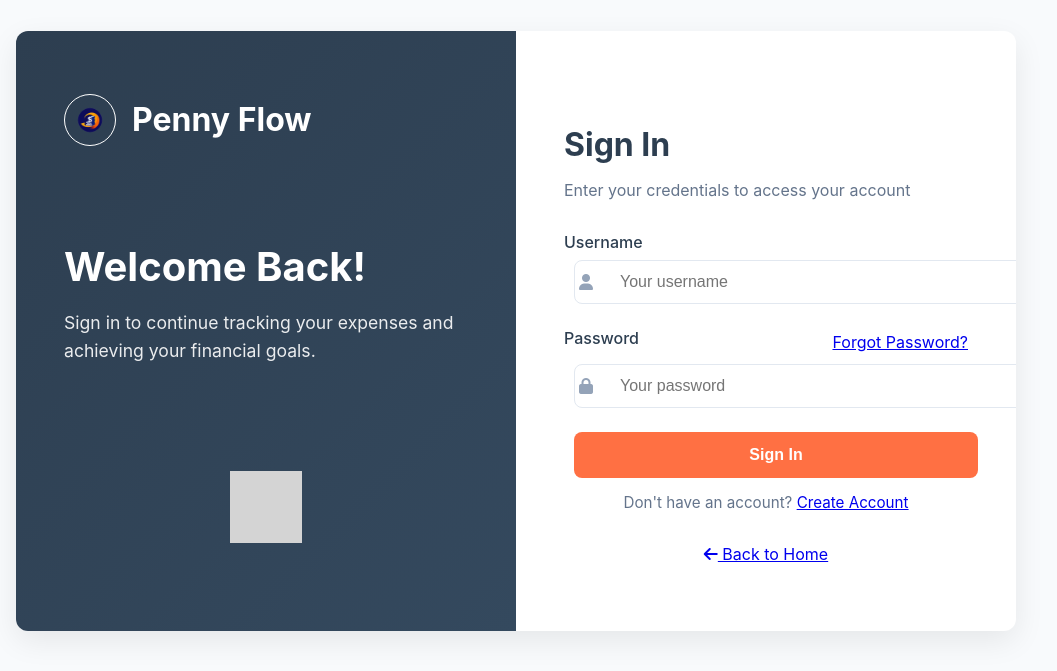
Scenario: Login Page › should show error on failed login
The width and height of the screenshot is (1057, 671).
# Enter wrong credentials
In the field named "username": (807, 282) [574,260,1040,304], type "wronguser"
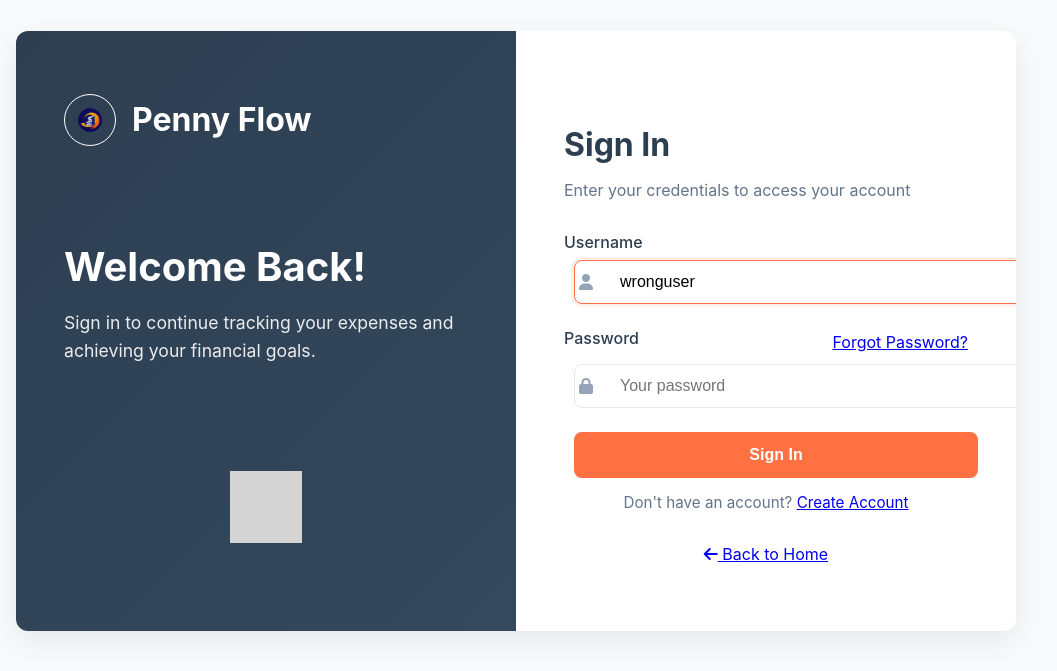
In the password field named "password": (807, 386) [574,364,1040,408], type "wrongpass"
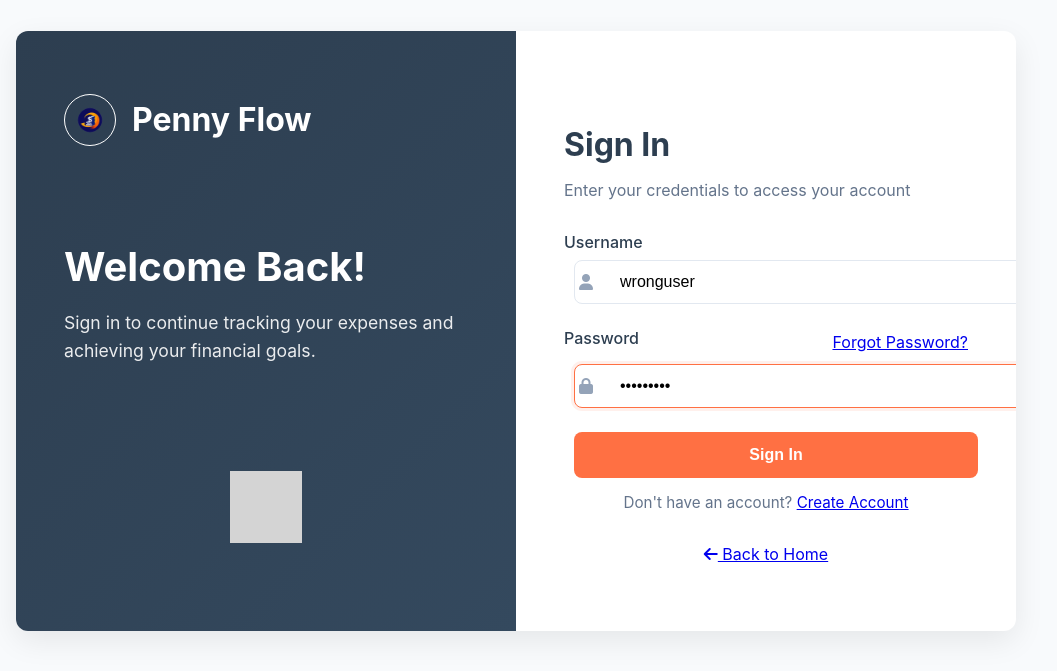
Click the submit button: (776, 455) [574,432,978,478]
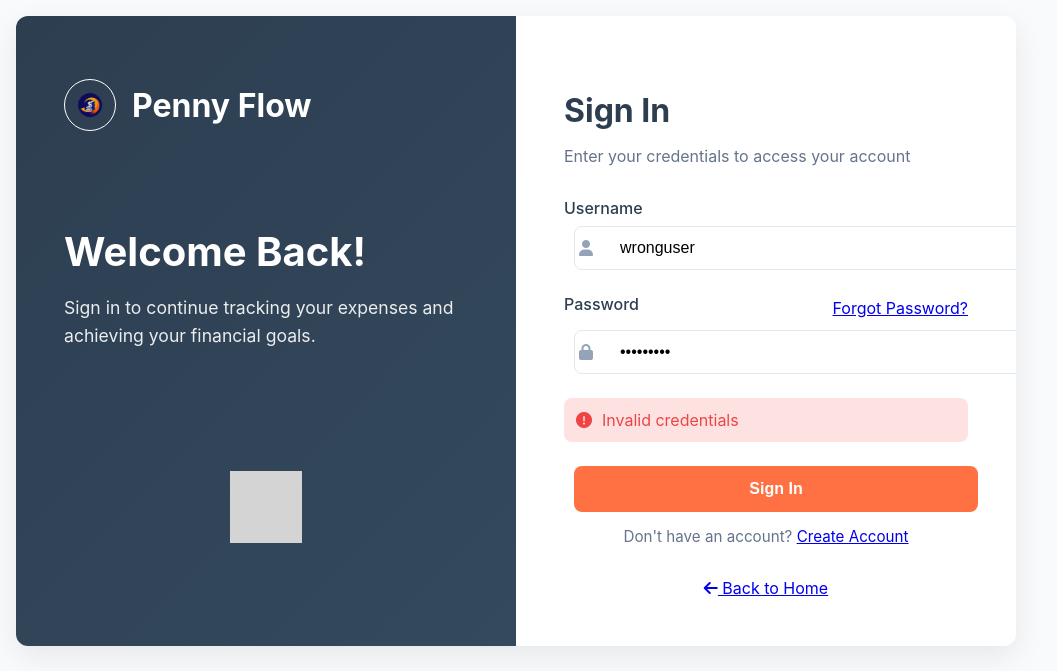
expect the element with class "error-message" reads "Invalid credentials": met, box [602,410,739,430]
